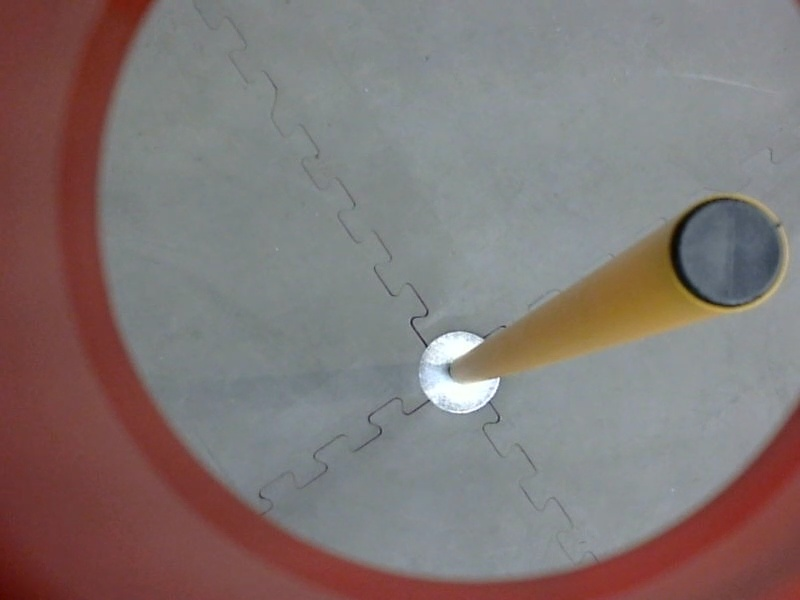tip: (665, 183, 794, 317)
